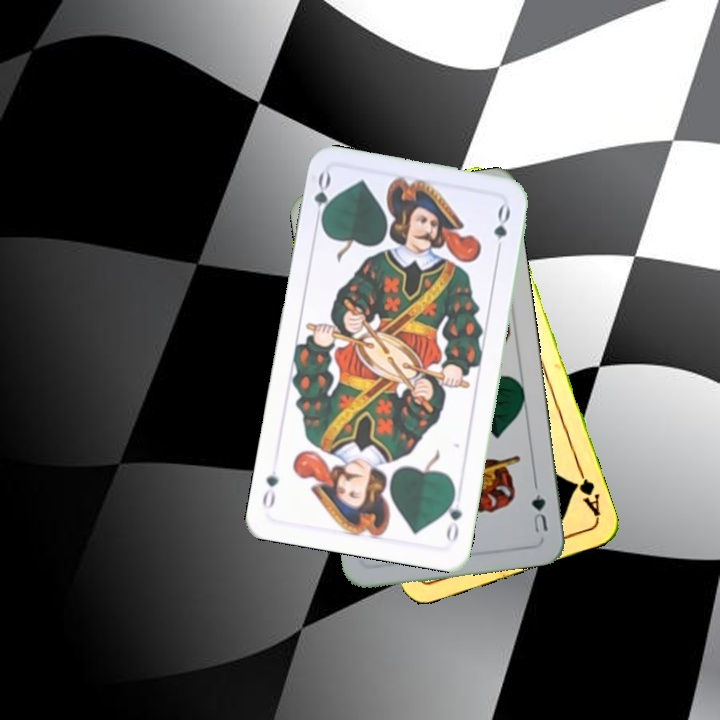GA: (568, 463, 603, 519)
GO: (310, 168, 336, 229), (441, 486, 465, 545)
GU: (527, 490, 551, 536)
